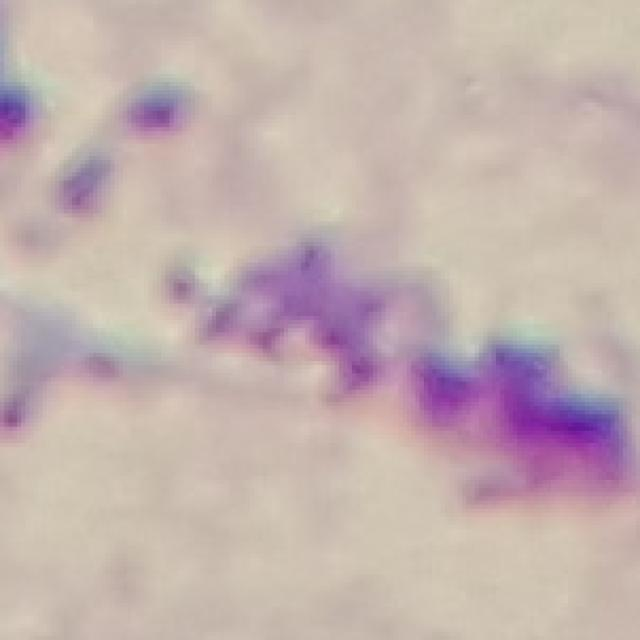non-sperm: (178, 236, 436, 403), (420, 336, 626, 496)
